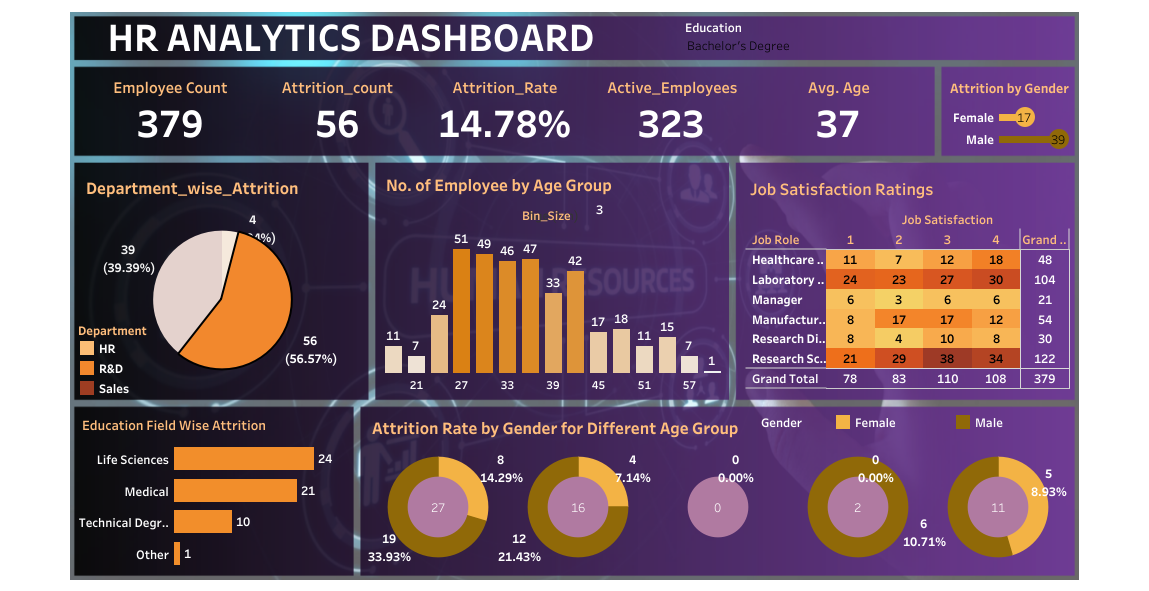

Layout of this report page (visuals, bound fields, positions):
{"tool":"tableau","page":{"name":"HR ANALYTICS DASHBOARD","canvas":[1150,592],"ordinal":0},"visuals":[{"type":"image","param":"Image/HR background.pptx (2).png","box":[8,8,1134,576]},{"type":"filter","title":"Department_wise_Attrition","param":"[federated.1szaupz1sg5wqj1brd87x1sbi06y].[none:Education:nk]","box":[685,17,160,41]},{"type":"text","box":[104.5,20,865.2,30]},{"type":"worksheet","title":"Attrition_by_Gender","mark":"Automatic","rows":["Gender"],"cols":["Calculation_203224953761050624","Calculation_203224953761050624"],"box":[943,72,130,78]},{"type":"worksheet","title":"KPI","mark":"Automatic","box":[86.6,76,836.4,72]},{"type":"worksheet","title":"No. of Employee by Age Group","mark":"Automatic","rows":["Employee Count"],"cols":["Age (bin)"],"box":[382,167,342,226]},{"type":"worksheet","title":"Department_wise_Attrition","mark":"Pie","box":[82,170,280,221]},{"type":"worksheet","title":"Job Satisfaction Ratings","mark":"Square","rows":["Job Role"],"cols":["Job Satisfaction"],"box":[746,171,324,218]},{"type":"parameter","param":"[Parameters].[Parameter 1]","box":[522,200,202,29]},{"type":"legend","title":"Department_wise_Attrition","param":"[federated.1szaupz1sg5wqj1brd87x1sbi06y].[none:Department:nk]","box":[77,319,95,78]},{"type":"worksheet","title":"Education Field Wise Attrition","mark":"Automatic","rows":["Education Field"],"cols":["Calculation_203224953761050624"],"box":[78,409,271,160]},{"type":"worksheet","title":"Attrition Rate by Gender for Different Age Group","mark":"Pie","rows":["Calculation_203224953927290884","Calculation_203224953927290884"],"cols":["CF_age band"],"box":[368,410,700,156]},{"type":"legend","title":"Attrition Rate by Gender for Different Age Group","param":"[federated.1szaupz1sg5wqj1brd87x1sbi06y].[none:Gender:nk]","box":[761,412,285,26]}]}

Visuals, with their boxes in screenshot pixels (x1, y1, x2, y2), scaled from the page's 1150x592 canvas onto the 1149x591 screenshot:
image: (left=8, top=8, right=1141, bottom=583)
"Department_wise_Attrition" filter: (left=684, top=17, right=844, bottom=58)
text: (left=104, top=20, right=969, bottom=50)
"Attrition_by_Gender" worksheet: (left=942, top=72, right=1072, bottom=150)
"KPI" worksheet: (left=87, top=76, right=922, bottom=148)
"No. of Employee by Age Group" worksheet: (left=382, top=167, right=723, bottom=392)
"Department_wise_Attrition" worksheet (Pie marks): (left=82, top=170, right=362, bottom=390)
"Job Satisfaction Ratings" worksheet (Square marks): (left=745, top=171, right=1069, bottom=388)
parameter: (left=522, top=200, right=723, bottom=229)
"Department_wise_Attrition" legend: (left=77, top=318, right=172, bottom=396)
"Education Field Wise Attrition" worksheet: (left=78, top=408, right=349, bottom=568)
"Attrition Rate by Gender for Different Age Group" worksheet (Pie marks): (left=368, top=409, right=1067, bottom=565)
"Attrition Rate by Gender for Different Age Group" legend: (left=760, top=411, right=1045, bottom=437)
